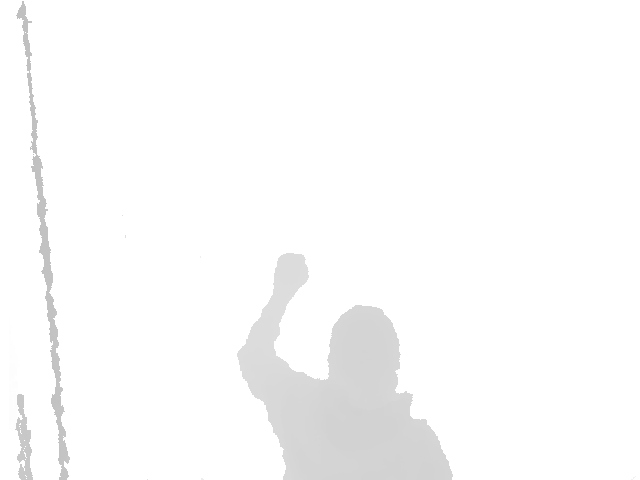hand: (273, 252, 309, 302)
head: (326, 305, 401, 400)
person: (237, 252, 454, 480)
